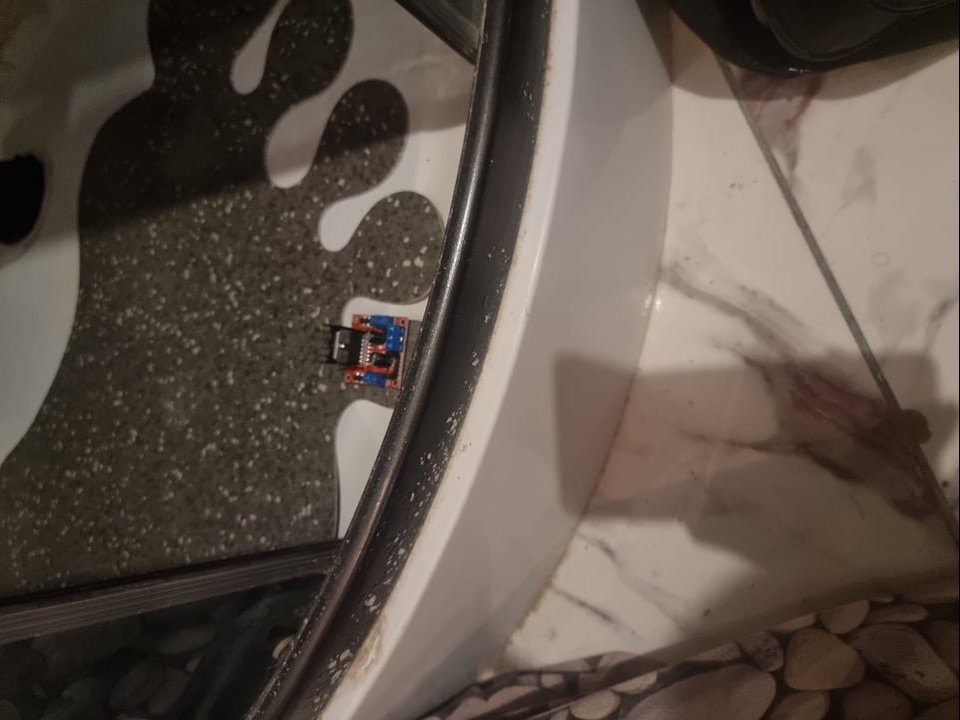MOTOR: (319, 313, 411, 391)
